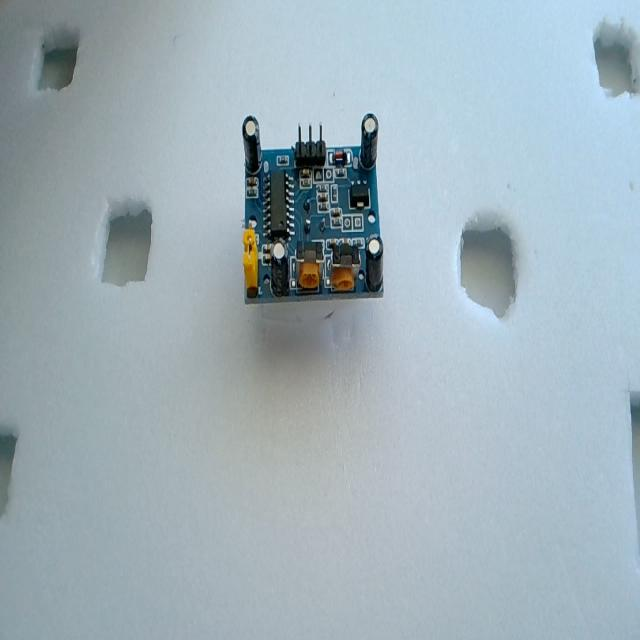Electrolytic capacitor: (242, 114, 262, 175), (360, 111, 379, 170), (366, 236, 384, 292), (271, 243, 289, 296)
IC: (263, 169, 293, 241)
pinheader: (292, 115, 328, 168)
